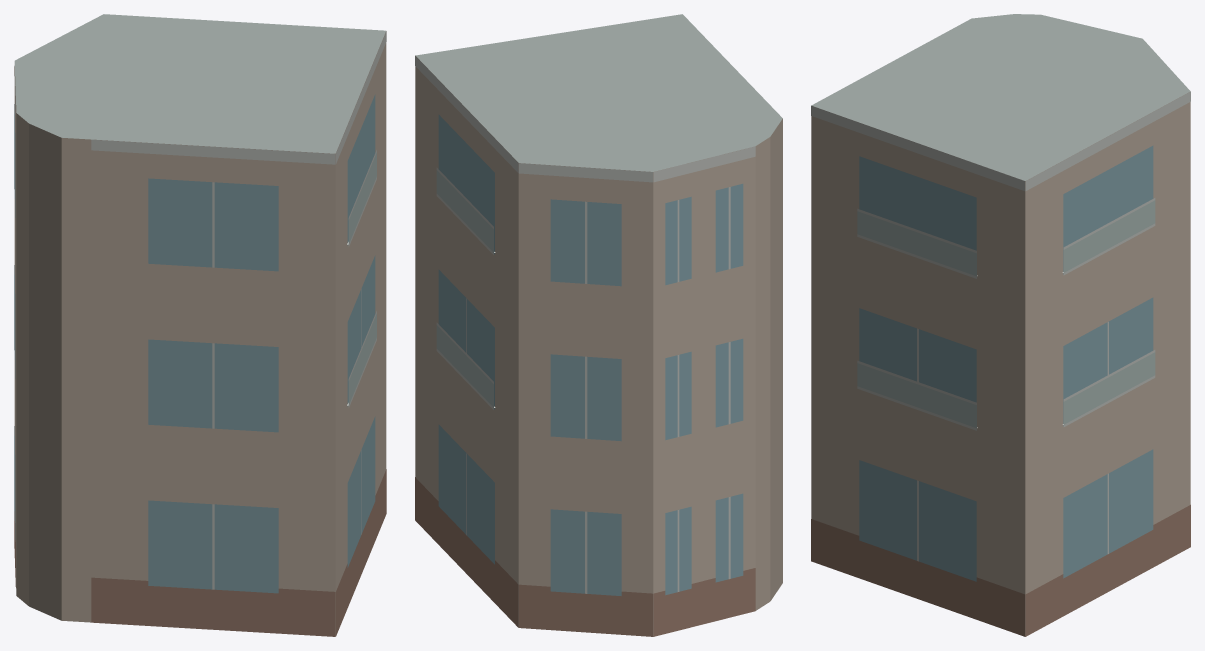
The model's file is survey-upis-32500682.glb.
3 views of the same model, side by side, from view 1: azimuth 30°, elevation 25°; view 2: azimuth 150°, elevation 25°; view 3: azimuth 270°, elevation 25° (orthographic). The views are drawn at different scales.
Parts seen in each view (by area): view 1: survey-upis-32500682.tmp; view 2: survey-upis-32500682.tmp; view 3: survey-upis-32500682.tmp.
Part boxes in pixels (x1,y1,x2,y2): survey-upis-32500682.tmp: (14, 14, 386, 636); survey-upis-32500682.tmp: (415, 14, 782, 636); survey-upis-32500682.tmp: (811, 14, 1190, 636).
Bounding box in the file's own units: 8.5 × 10.8 × 8.16.
